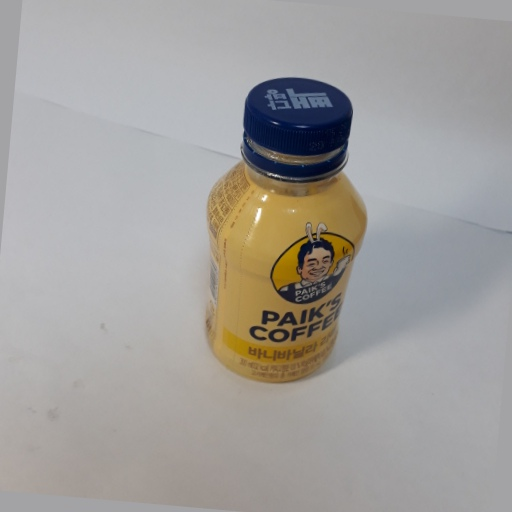Plastic_0: (196, 74, 373, 386)
